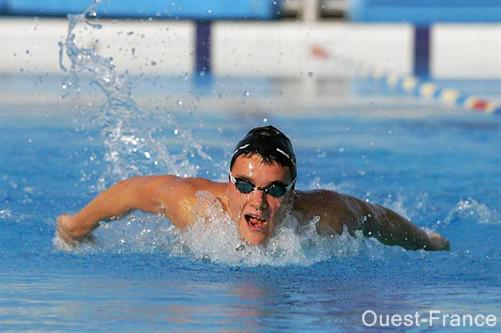swimmer: (54, 126, 452, 258)
